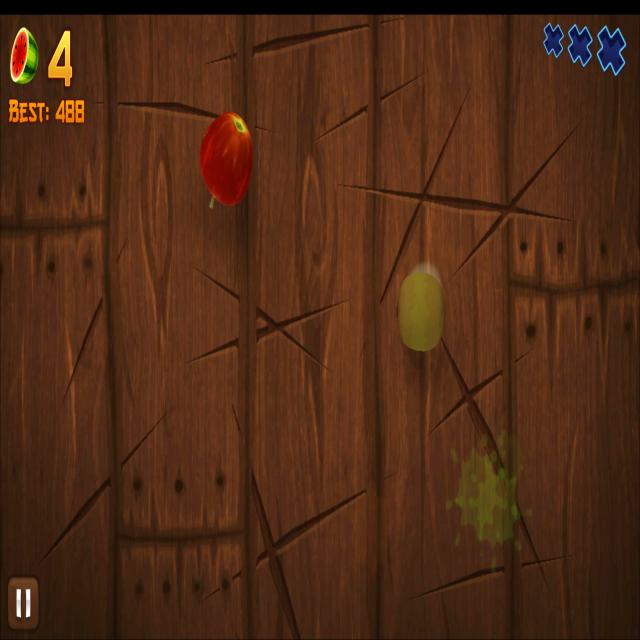fruit: (198, 111, 254, 206), (396, 269, 445, 354)
